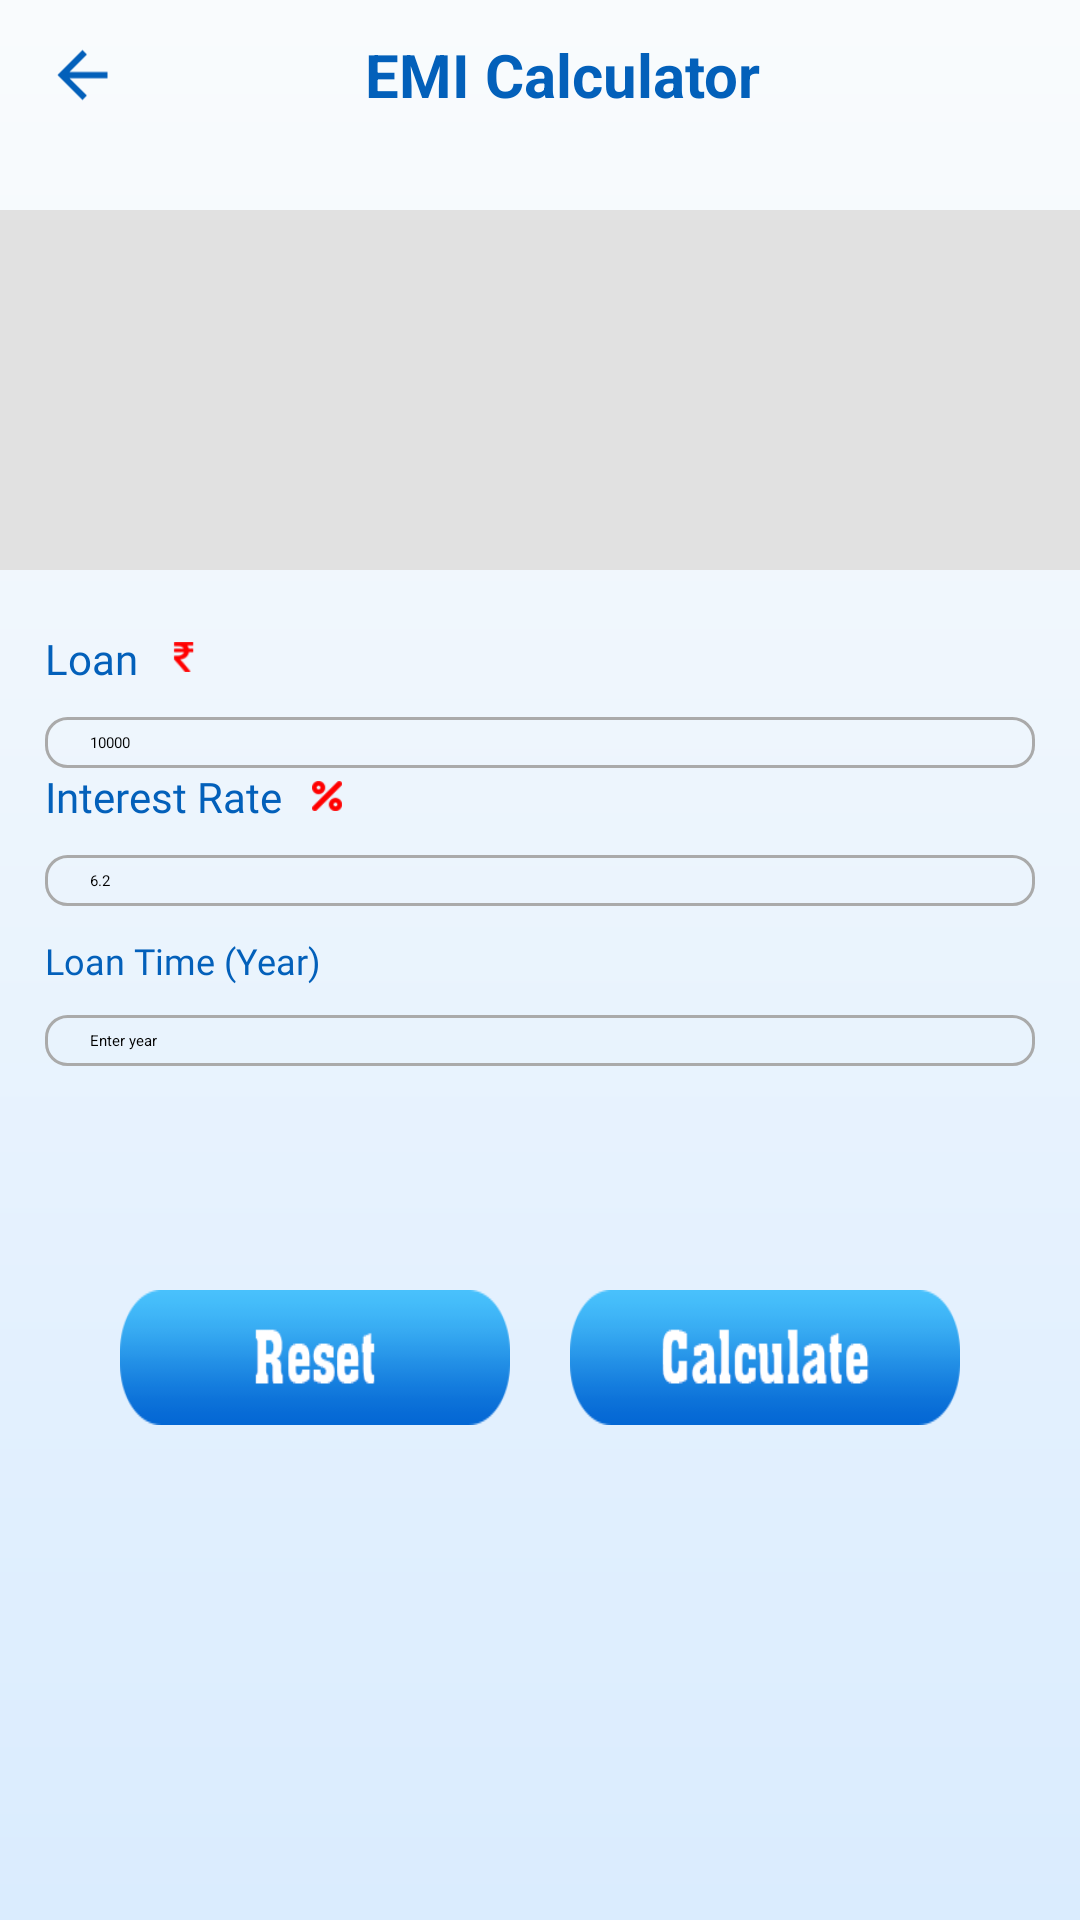

Icon bounding boxes for this 1080×1920 phone screenshot, format BBox(x1, y1, x2, y2):
arrow back: BBox(57, 49, 108, 101)
perc: BBox(312, 781, 342, 811)
ruppes: BBox(174, 642, 194, 672)
